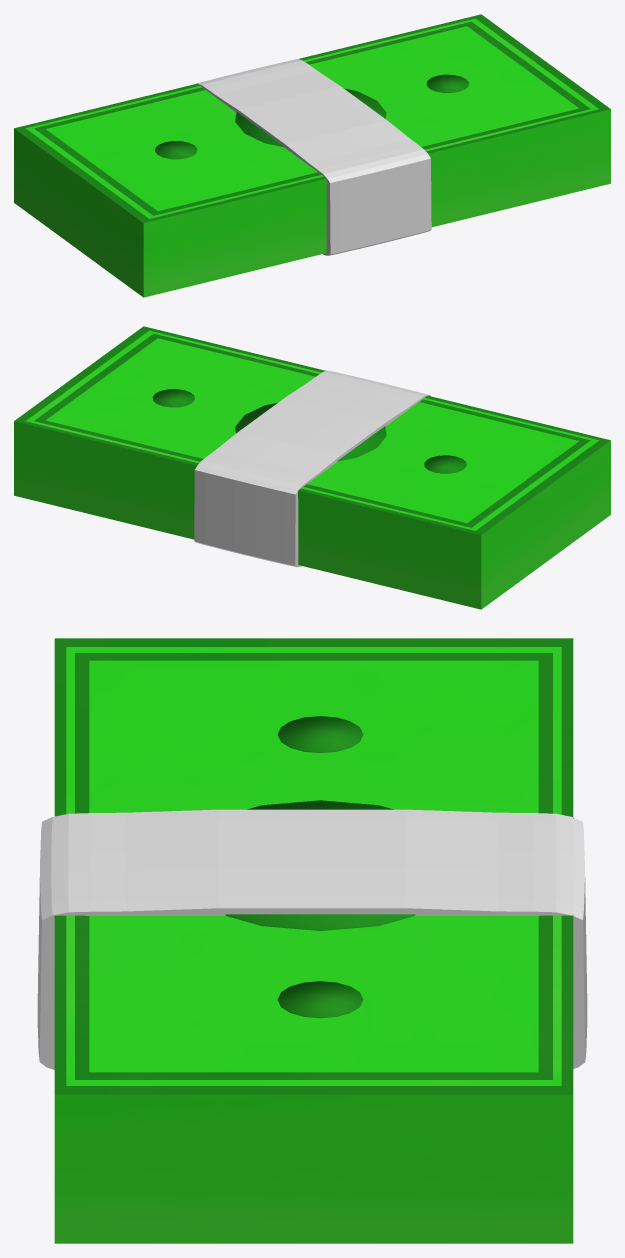
The model's file is money.gltf.
3 views of the same model, one above another, from view 1: azimuth 30°, elevation 25°; view 2: azimuth 150°, elevation 25°; view 3: azimuth 270°, elevation 25° (orthographic). The views are drawn at different scales.
Visible parts, largest first — view 1: Dollar Green; view 2: Dollar Green; view 3: Dollar Green.
Boxes of the visible parts, x1,y1,x2,y2 form: Dollar Green: [14, 14, 610, 297]; Dollar Green: [14, 326, 610, 609]; Dollar Green: [37, 638, 587, 1243].
Bounding box in the file's own units: 0.6329 × 0.1084 × 0.3223.
3 materials, 2 textured.
